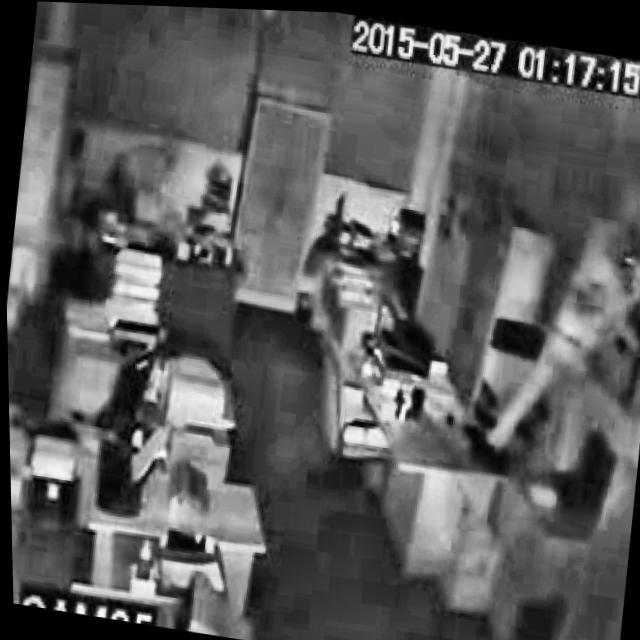burglary: (465, 188, 640, 509)
